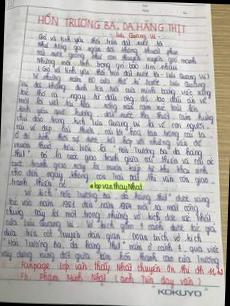text: (4, 214, 218, 238), (0, 246, 221, 269), (5, 204, 213, 228), (6, 236, 221, 258), (10, 165, 210, 188), (9, 148, 216, 170), (20, 258, 225, 280), (19, 104, 215, 126), (7, 157, 210, 178), (3, 225, 204, 246), (12, 139, 205, 160), (19, 268, 201, 290), (13, 130, 202, 150), (22, 186, 211, 206), (37, 11, 188, 36), (10, 122, 208, 141), (5, 197, 200, 216), (14, 114, 208, 133), (18, 80, 214, 98), (30, 70, 206, 90), (17, 97, 200, 116), (37, 64, 210, 83), (18, 89, 208, 106), (35, 49, 198, 66), (36, 39, 180, 58), (36, 55, 180, 72), (38, 31, 164, 48), (7, 176, 69, 189), (90, 178, 144, 192), (156, 287, 202, 298), (114, 30, 160, 40), (141, 8, 150, 12), (142, 4, 148, 8), (182, 11, 188, 13)
